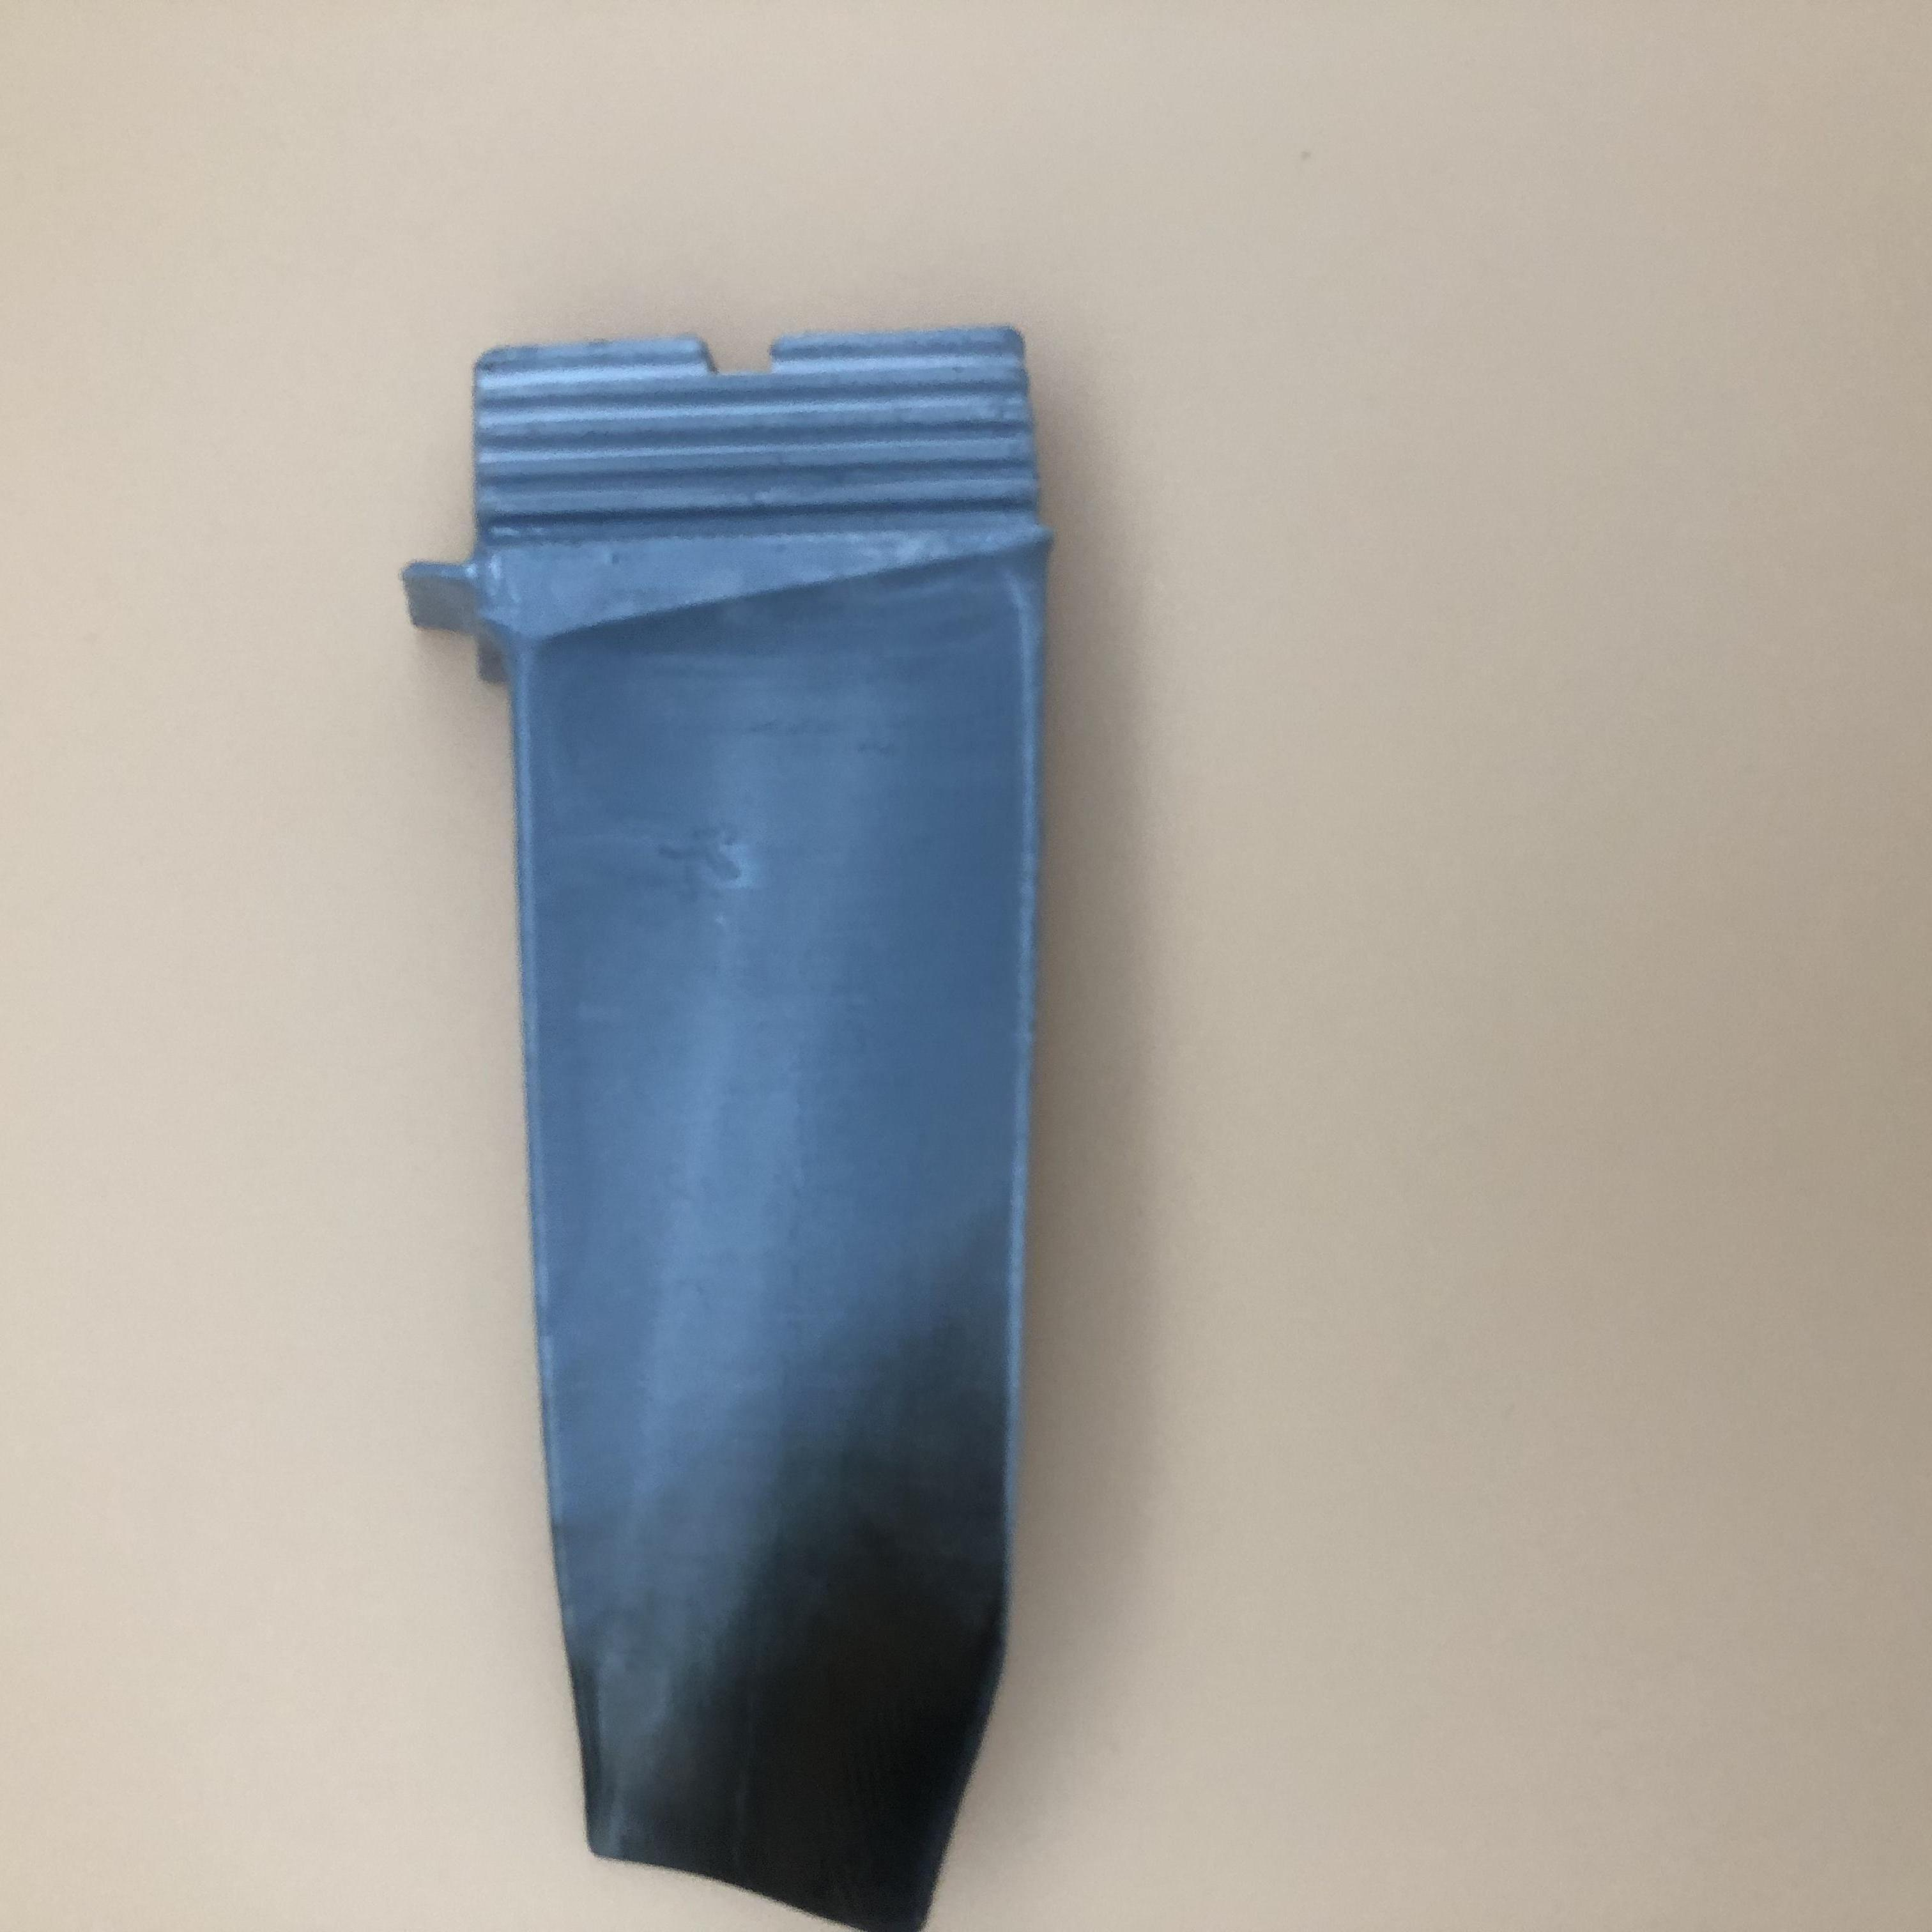ablation: (575, 1435, 994, 1897)
